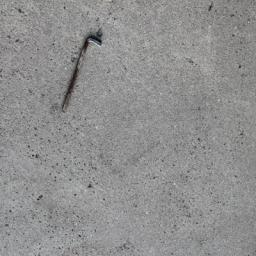FOD: (61, 34, 107, 115)
